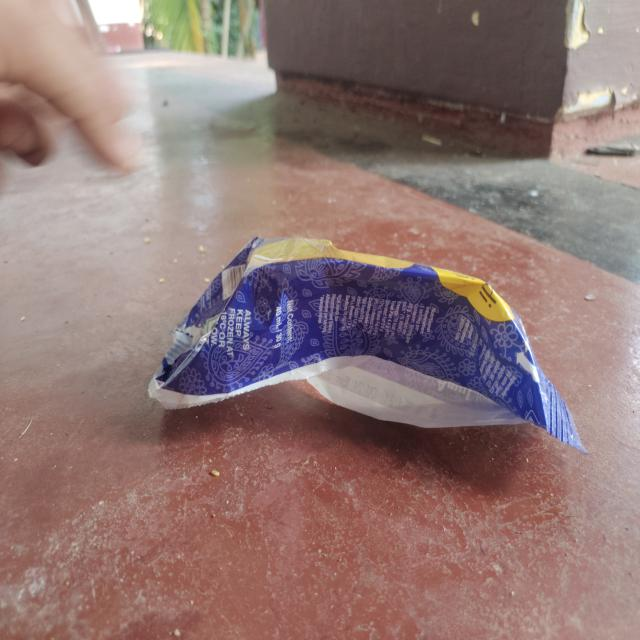plastic: (145, 230, 594, 459)
